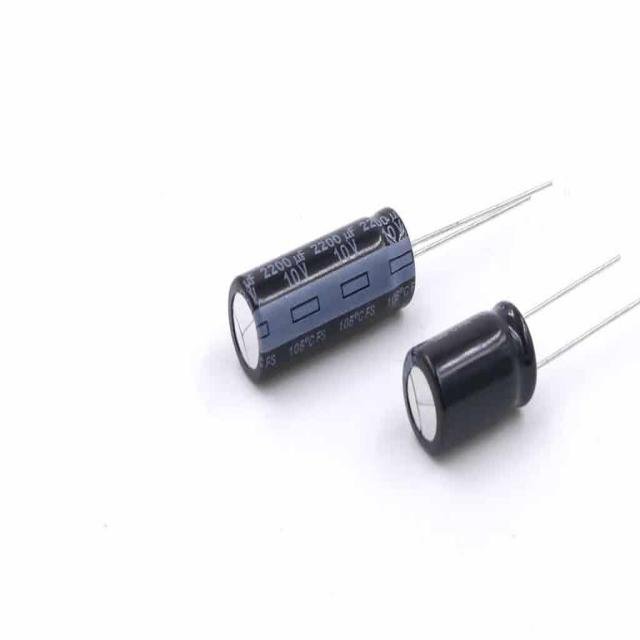Capacitor: (229, 184, 551, 381), (402, 256, 640, 454)
